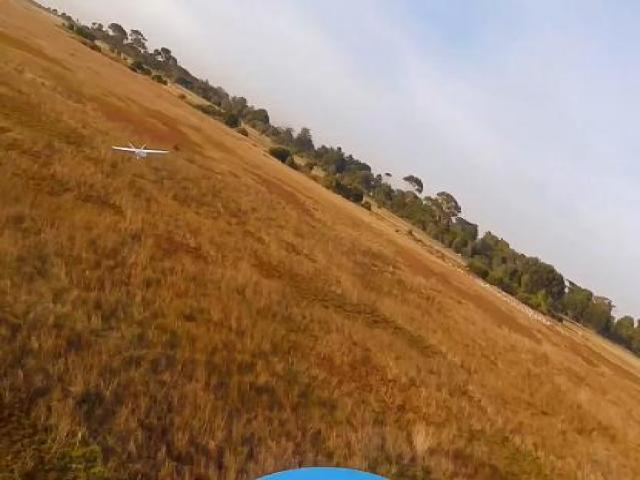uav: (111, 140, 171, 162)
